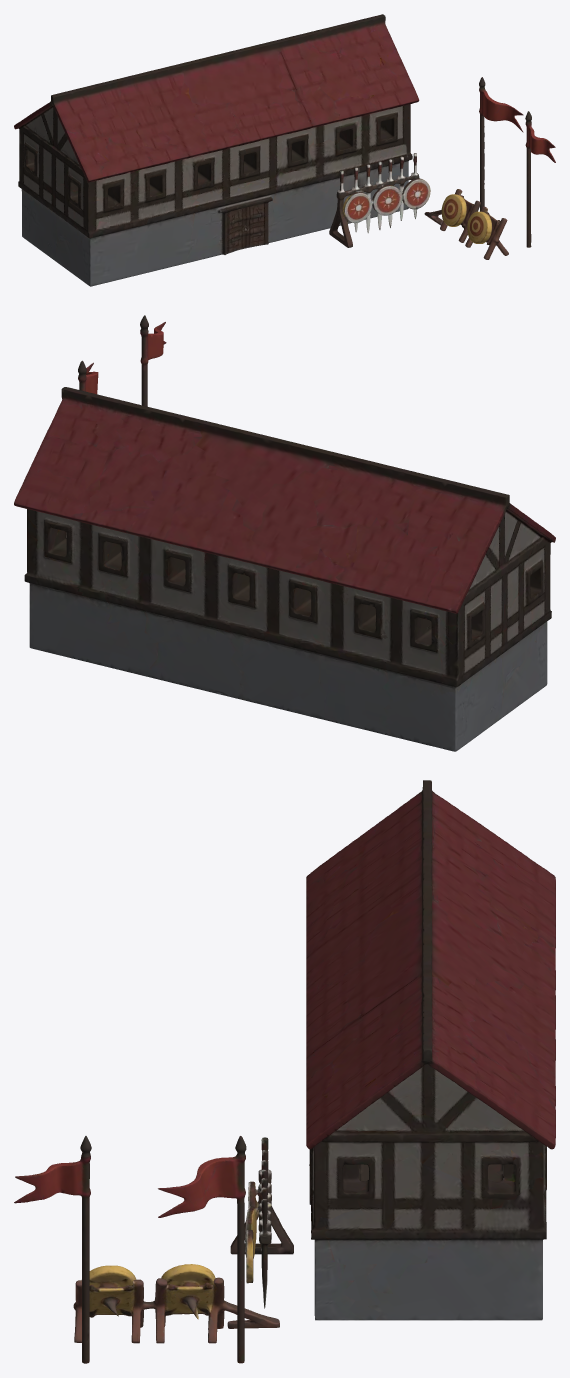
File: barracks.glb
The picture shows the model from 3 angles, top to bottom: view 1: azimuth 30°, elevation 25°; view 2: azimuth 150°, elevation 25°; view 3: azimuth 270°, elevation 25°; orthographic projection. The views are drawn at different scales.
Bounding box in the file's own units: 1.88 × 0.7776 × 1.36.
Materials: 1 (1 with a texture image).
